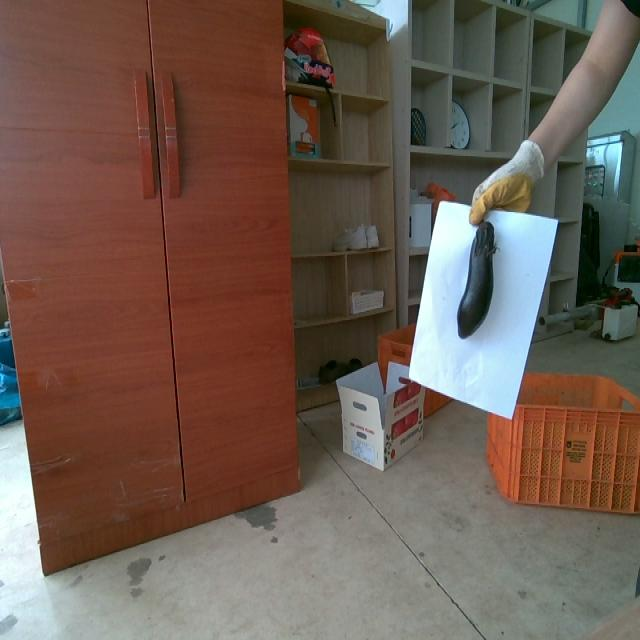Egg plant: (457, 221, 495, 337)
